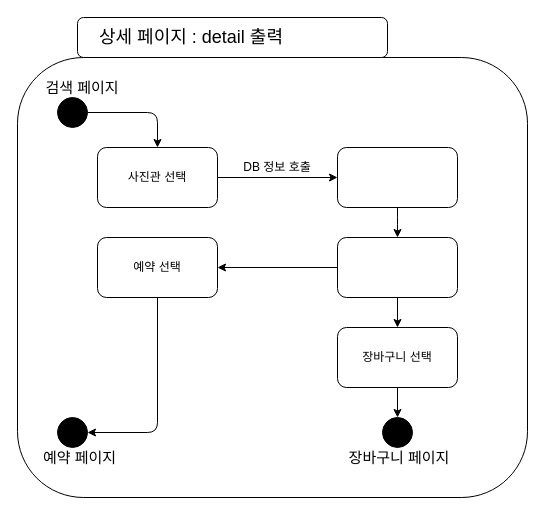
Image size: 545x515. Some labels were removed from this diagram. The centre of each missing label's shape, as x and y in pixels:
"촬영 종류 선택" belongs at point (397, 267).
"화면출력" belongs at point (397, 177).
